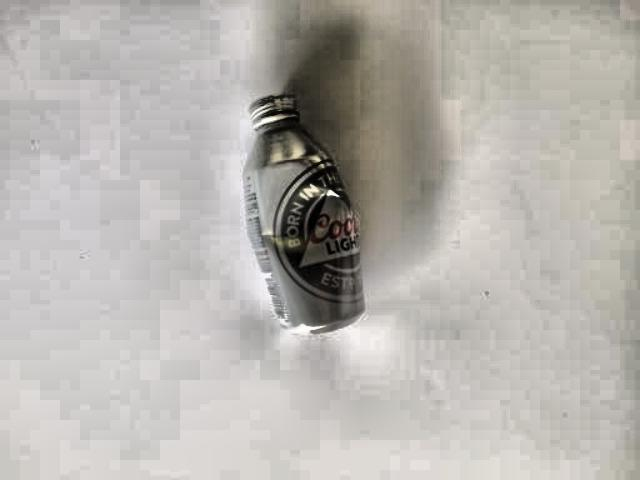Bottles: (227, 77, 383, 342)
